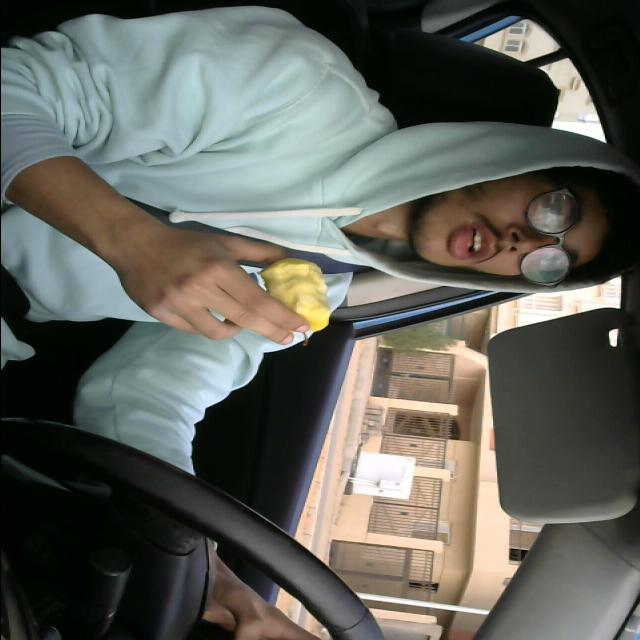eating: (260, 257, 344, 345)
